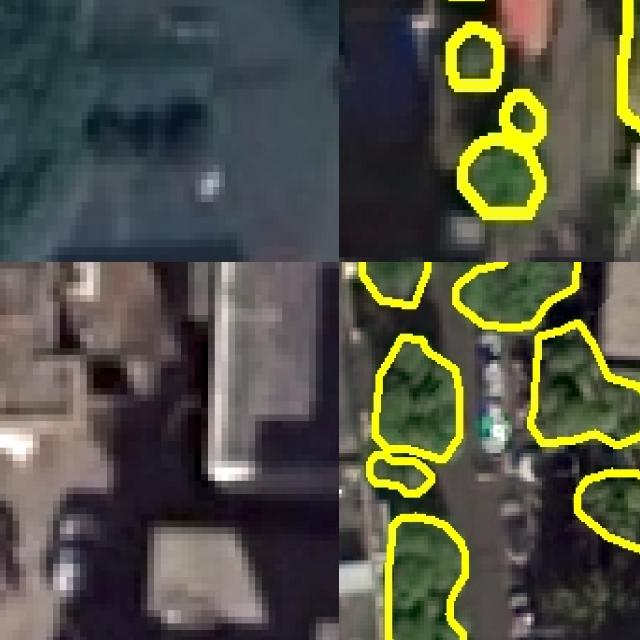trees: (1, 1, 154, 263), (369, 337, 461, 495), (530, 322, 640, 446), (461, 93, 542, 215), (388, 515, 466, 640), (455, 263, 578, 329), (577, 470, 640, 551), (449, 26, 500, 86), (361, 263, 429, 306)
